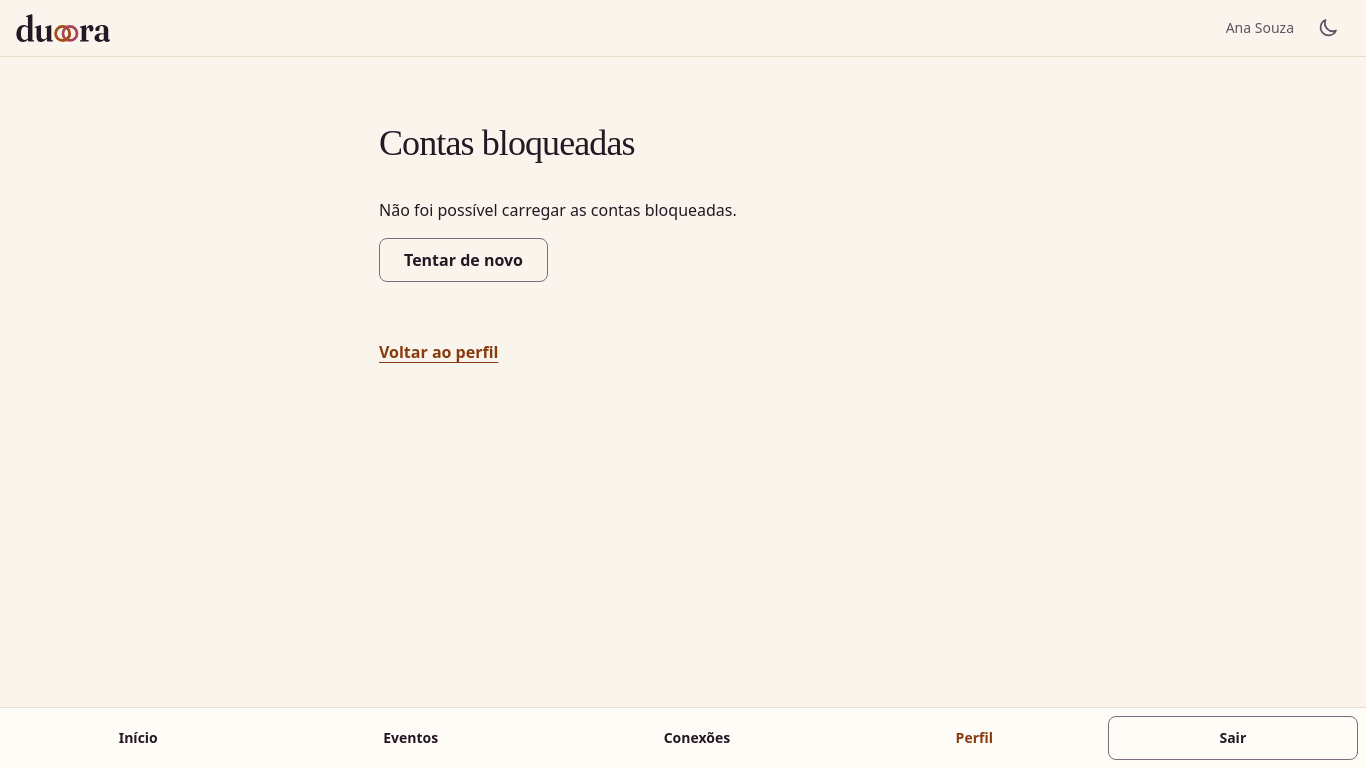
Test: blocked accounts page › offers to try again when the list could not be read
Expected: the text "Não foi possível carregar as contas bloqueadas." is shown, [379, 198, 737, 222]
Click the button "Tentar de novo" at (464, 260), box [379, 238, 548, 282]
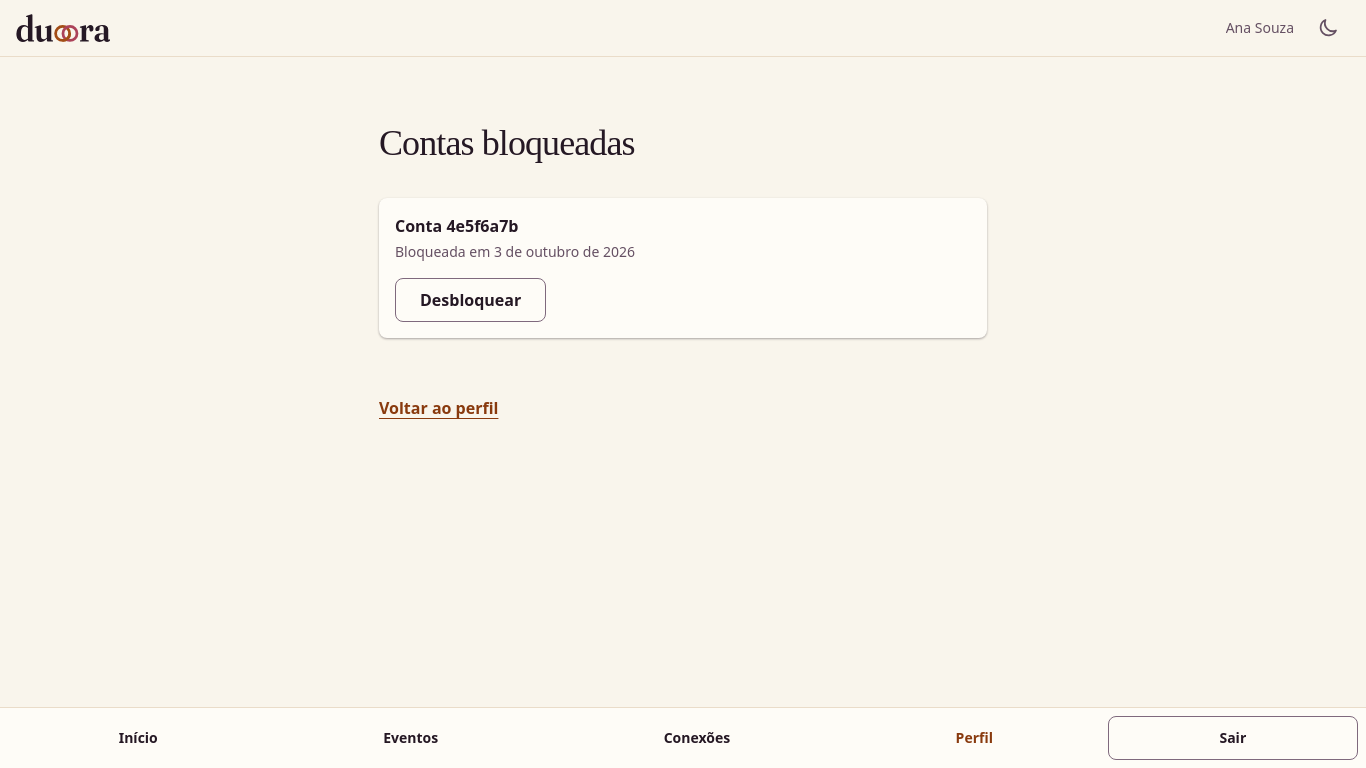
Expected: the list item is shown, [379, 198, 987, 338]
